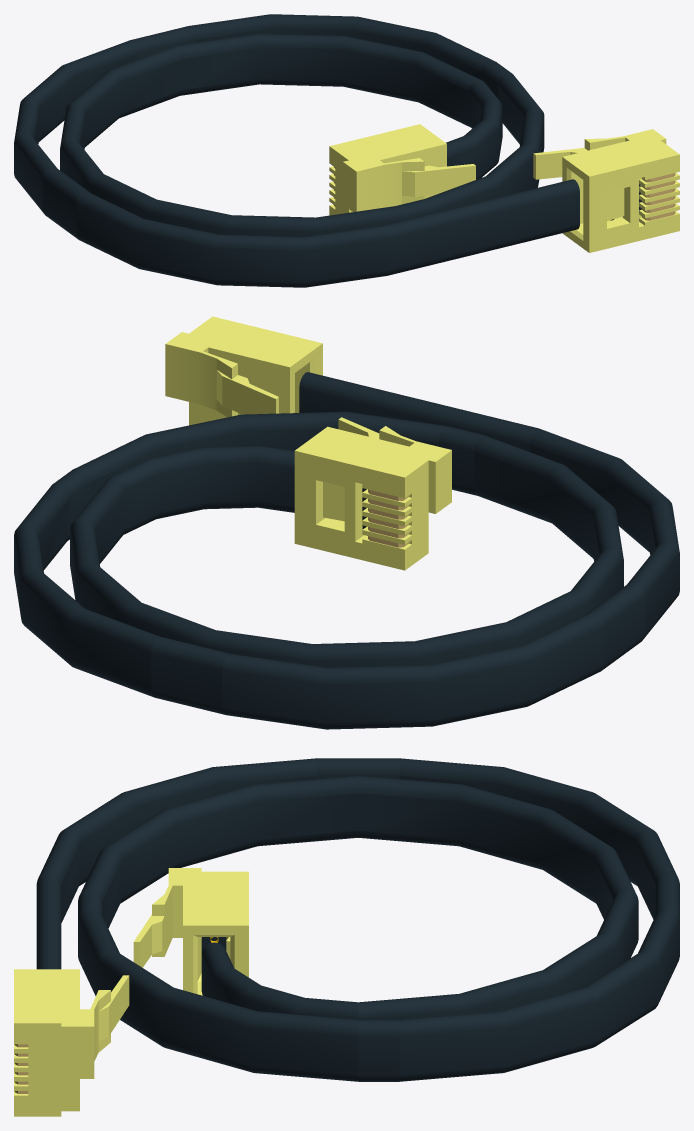
The picture shows the model from 3 angles, top to bottom: view 1: azimuth 30°, elevation 25°; view 2: azimuth 150°, elevation 25°; view 3: azimuth 270°, elevation 25°; orthographic projection. The views are drawn at different scales.
Visible parts, largest first — view 1: 55805.dat, 933.dat (×2), 932.dat (×5), 933c01.dat; view 2: 55805.dat, 933.dat (×2), 932.dat (×5), 933c01.dat; view 3: 55805.dat, 933.dat (×2), 932.dat (×4).
Boxes of the visible parts, <box> form: 55805.dat: <box>14,14,544,287</box>; 933.dat (×2): <box>329,124,679,252</box>; 932.dat (×5): <box>42,26,579,275</box>; 933c01.dat: <box>610,173,675,220</box>; 55805.dat: <box>14,411,679,729</box>; 933.dat (×2): <box>165,316,451,570</box>; 932.dat (×5): <box>53,372,644,714</box>; 933c01.dat: <box>368,489,408,547</box>; 55805.dat: <box>38,758,679,1081</box>; 933.dat (×2): <box>14,868,248,1116</box>; 932.dat (×4): <box>36,758,679,1081</box>.
Size of the model in its own units: 0.0664 by 0.01 by 0.0646.
